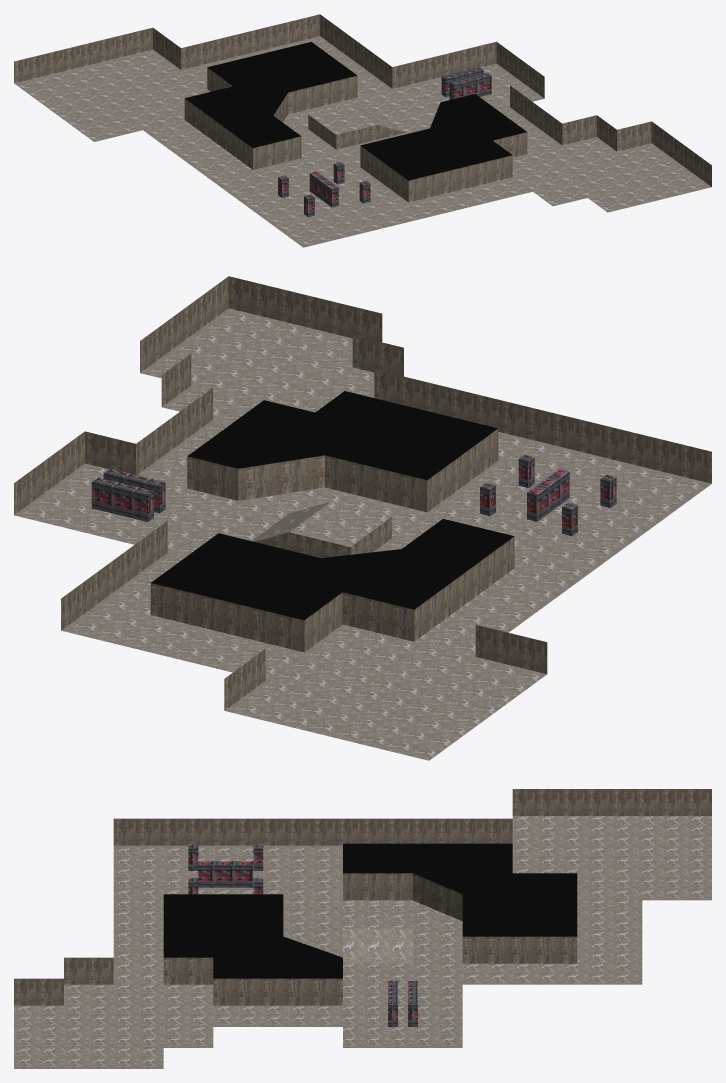
Rendered from computer_room.glb.
The picture shows the model from 3 angles, top to bottom: view 1: azimuth 30°, elevation 25°; view 2: azimuth 150°, elevation 25°; view 3: azimuth 270°, elevation 25°; orthographic projection. The views are drawn at different scales.
Parts seen in each view (by area): view 1: battlefield-col; view 2: battlefield-col; view 3: battlefield-col.
Part boxes in pixels (left/top/right/bottom): battlefield-col: left=14, top=14, right=711, bottom=247; battlefield-col: left=14, top=276, right=711, bottom=760; battlefield-col: left=14, top=789, right=711, bottom=1068.
Size of the model in its own units: 120 by 6 by 140.
4 materials, 3 textured.
